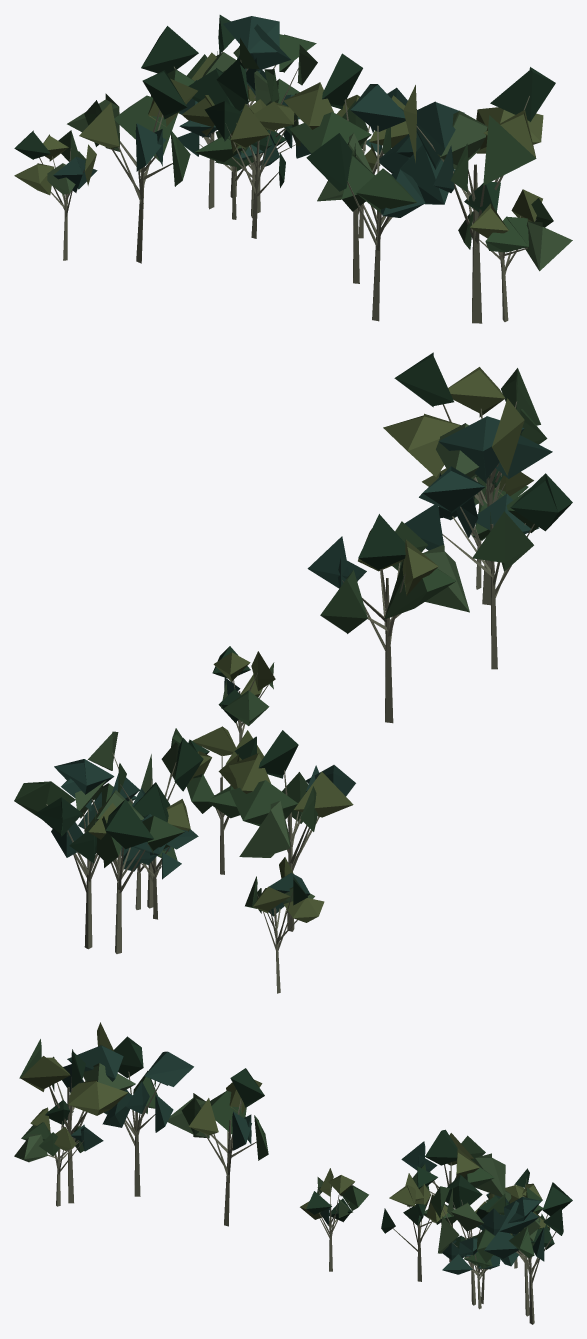
The model's file is forest_16_25.dae.
3 views of the same model, one above another, from view 1: azimuth 30°, elevation 25°; view 2: azimuth 150°, elevation 25°; view 3: azimuth 270°, elevation 25° (orthographic). The views are drawn at different scales.
Visible parts, largest first — view 1: Node; view 2: Node; view 3: Node.
Boxes of the visible parts, bbox=[...] form: Node: bbox=[14, 15, 572, 323]; Node: bbox=[14, 352, 572, 993]; Node: bbox=[14, 1022, 572, 1324].
Size of the model in its own units: 4.49 by 10.15 by 5.47.
